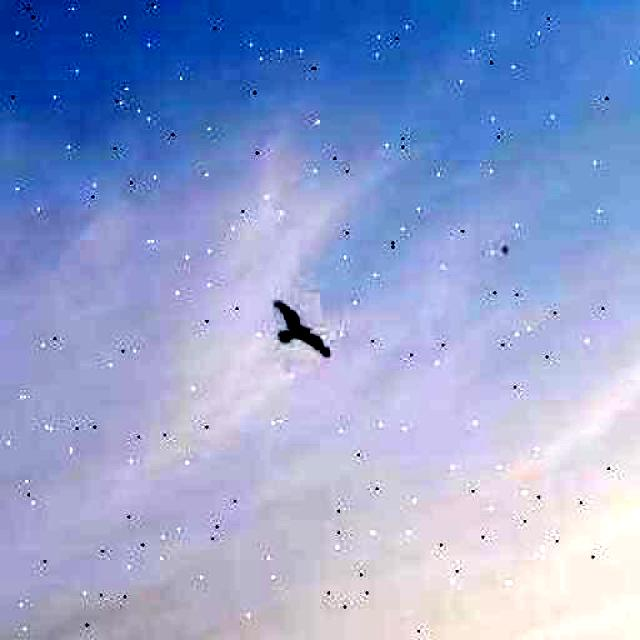airplane: (272, 292, 332, 369), (502, 245, 511, 252)
